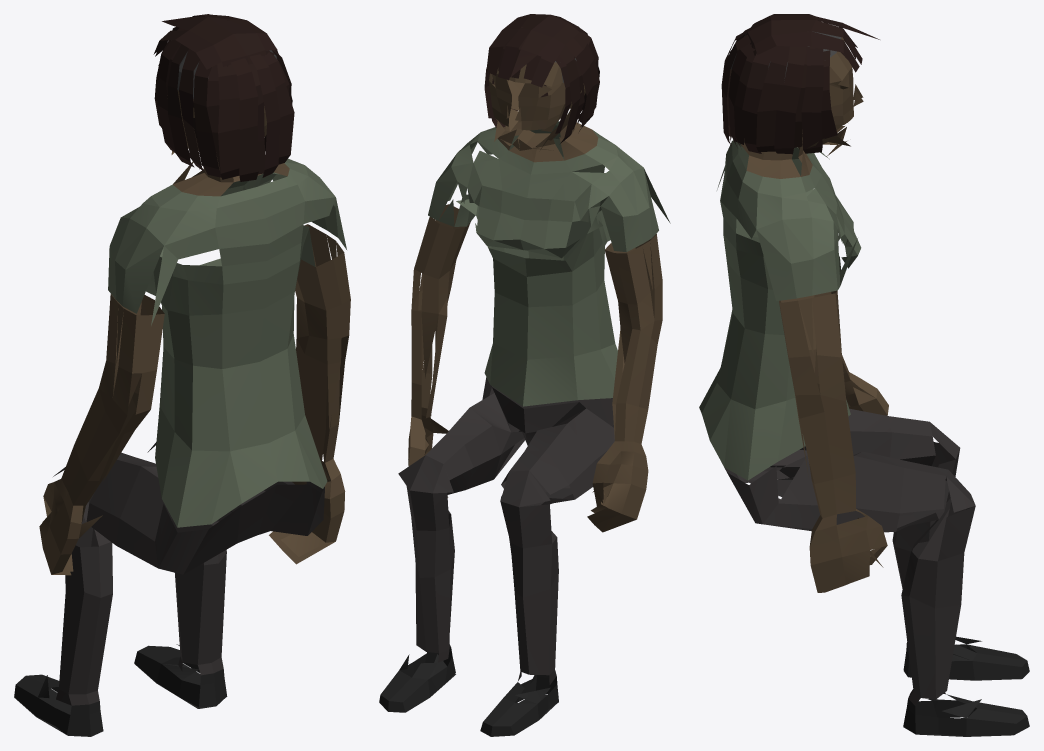
The model's file is person_7_sit.fbx.
The picture shows the model from 3 angles, left to right: view 1: azimuth 30°, elevation 25°; view 2: azimuth 150°, elevation 25°; view 3: azimuth 270°, elevation 25°; orthographic projection. The views are drawn at different scales.
Visible parts, largest first — view 1: Female; view 2: Female; view 3: Female.
Part boxes in pixels (x1,y1,x2,y2): Female: (14, 14, 350, 736); Female: (379, 14, 670, 736); Female: (699, 14, 1029, 736).
Size of the model in its own units: 0.3906 by 1 by 0.439.
